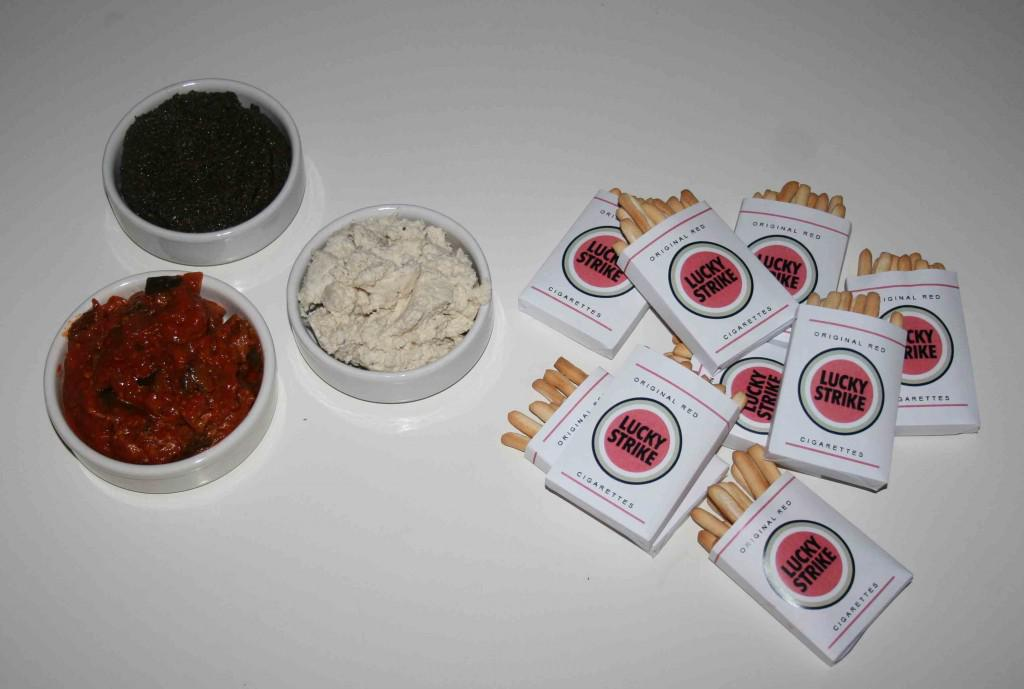lucky_strike_red: (784, 321, 891, 466), (588, 369, 691, 507), (746, 516, 877, 619), (650, 224, 772, 333), (888, 274, 972, 424), (560, 207, 641, 335), (743, 207, 841, 290), (719, 350, 786, 435)
